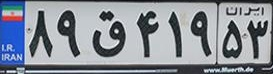character: (88, 5, 132, 63), (55, 5, 87, 62), (132, 7, 165, 62), (27, 6, 56, 62), (188, 7, 215, 62), (163, 7, 189, 63), (246, 17, 272, 62), (220, 16, 245, 61)
